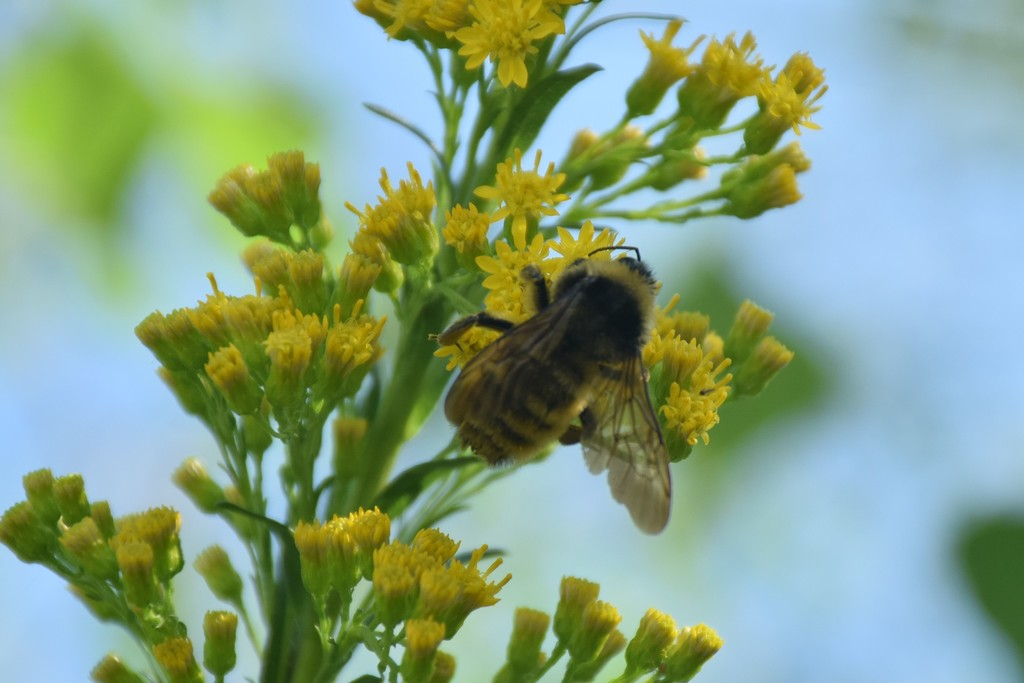bumblebee: (435, 243, 677, 539)
